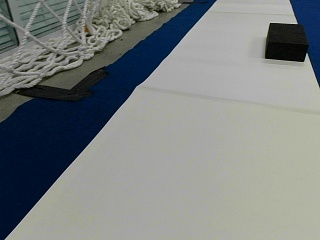block: (265, 22, 308, 61)
